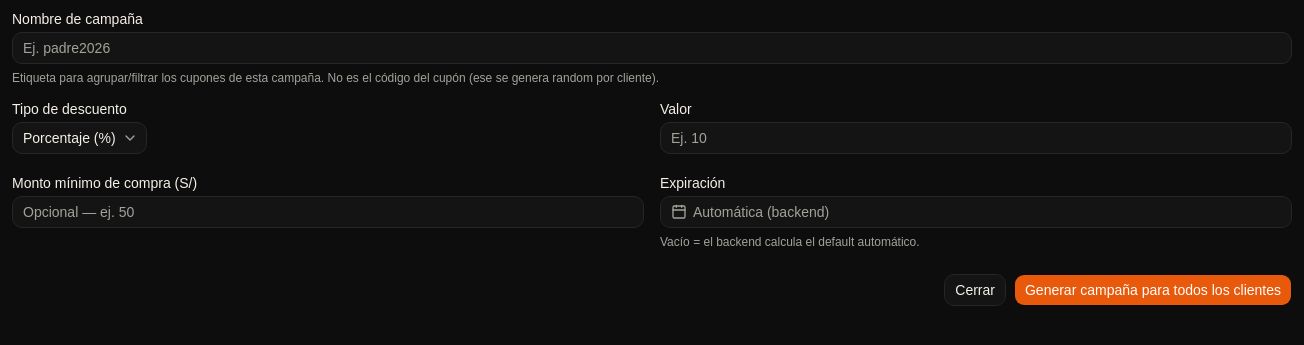
Scenario: GenerateBulkCouponForm › exige campaignName antes de mostrar la confirmación
In the number field labelled "Valor": (976, 138) [660,122,1292,154], type "10"
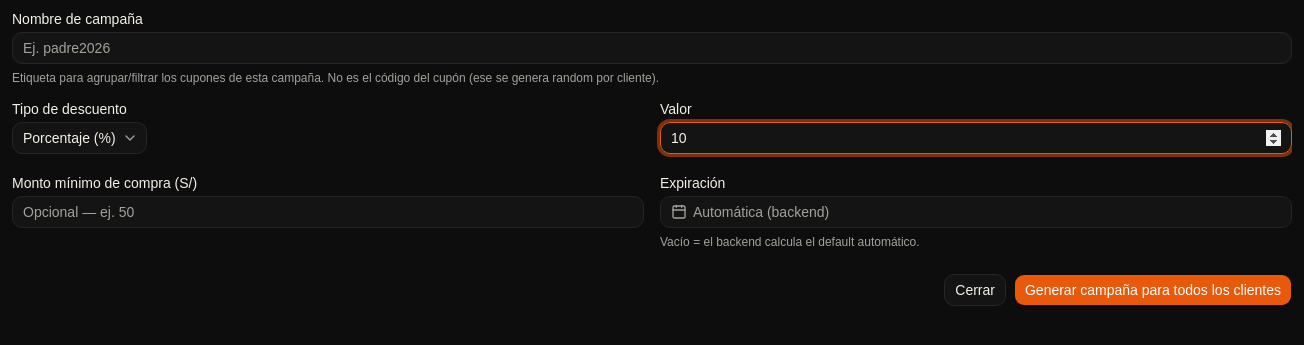
Click the button "Generar campaña para todos los clientes": (1153, 290) [1014,274,1292,306]
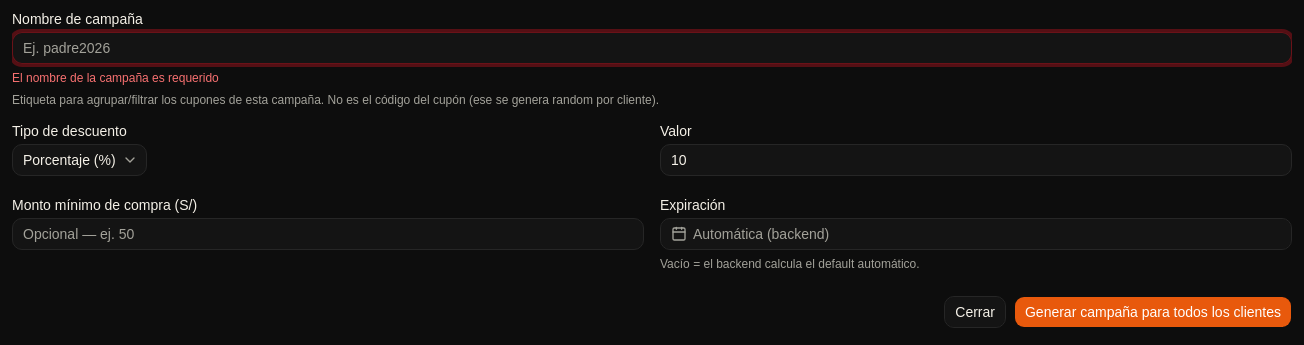
Now the text "El nombre de la campaña es requerido" is shown, box [12,71,219,85]
